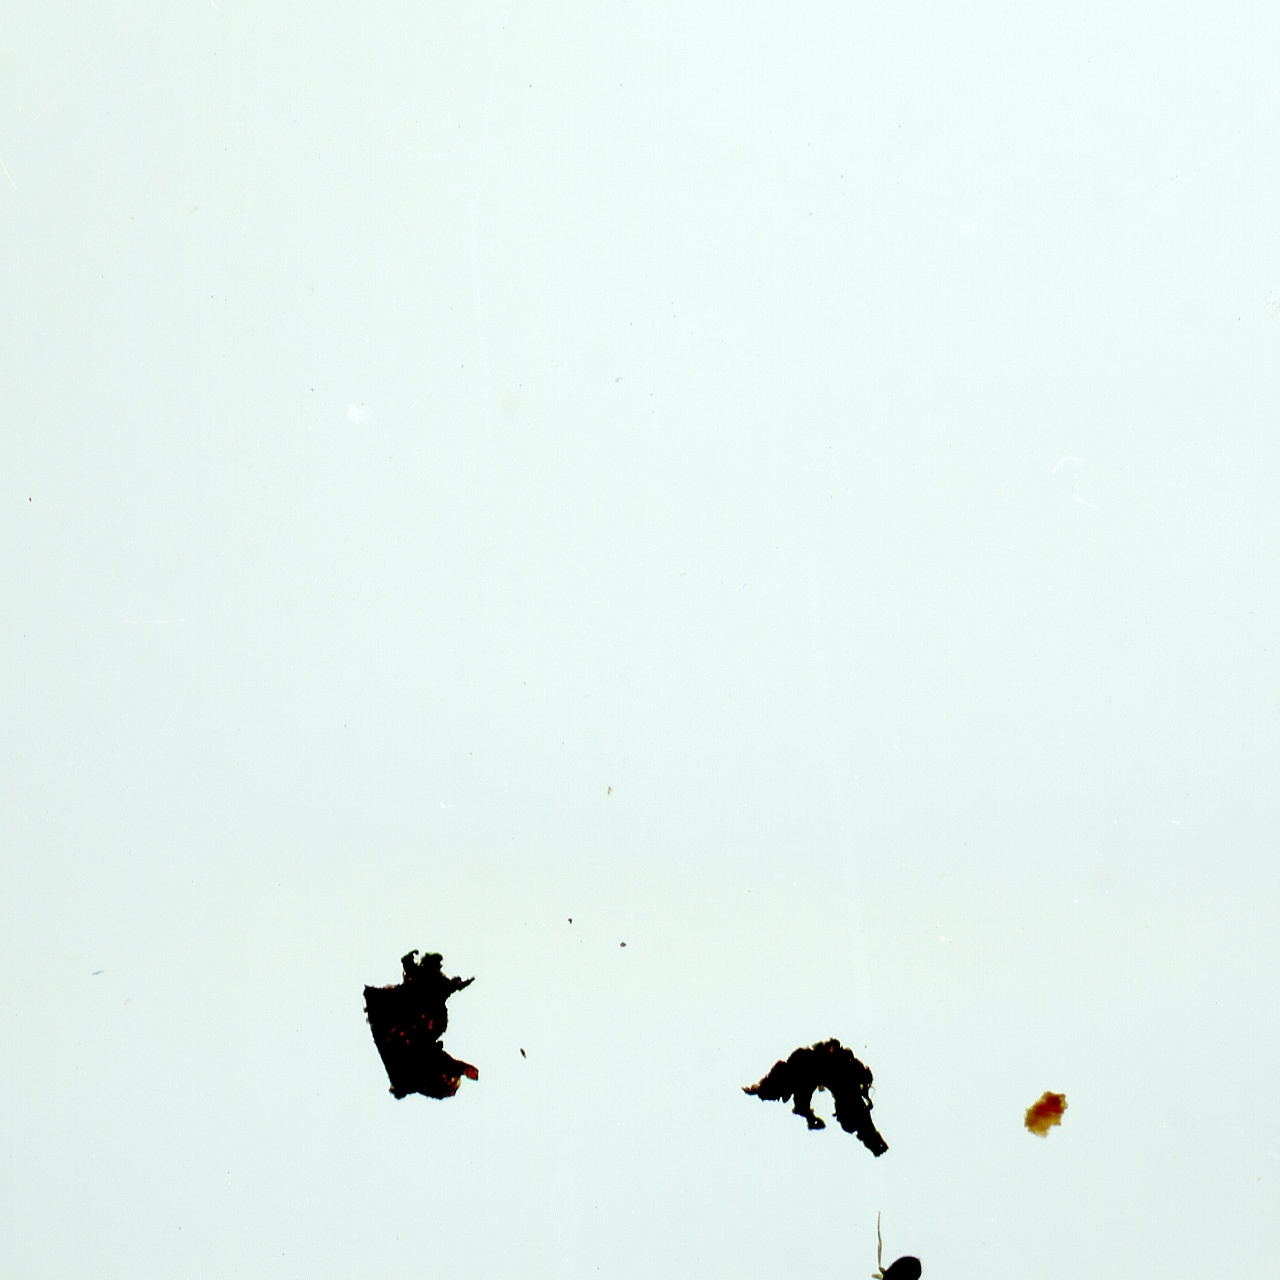arthropod: (856, 1200, 972, 1280)
